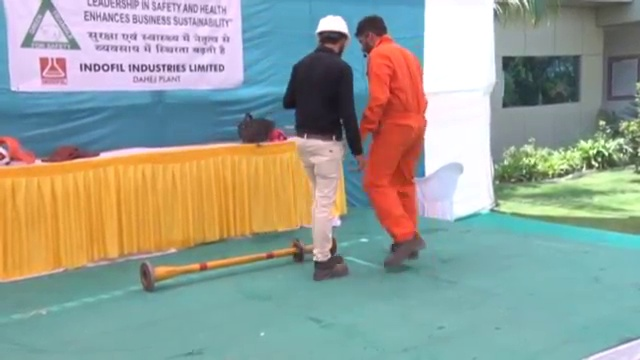helmet: (313, 14, 352, 46)
helmet_off: (357, 14, 387, 55)
helmet_on: (312, 12, 353, 52)
person: (355, 15, 430, 275), (288, 14, 360, 279)
